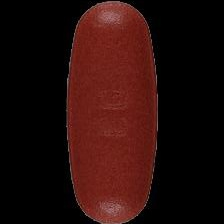49999-943: (0, 0, 224, 224)
